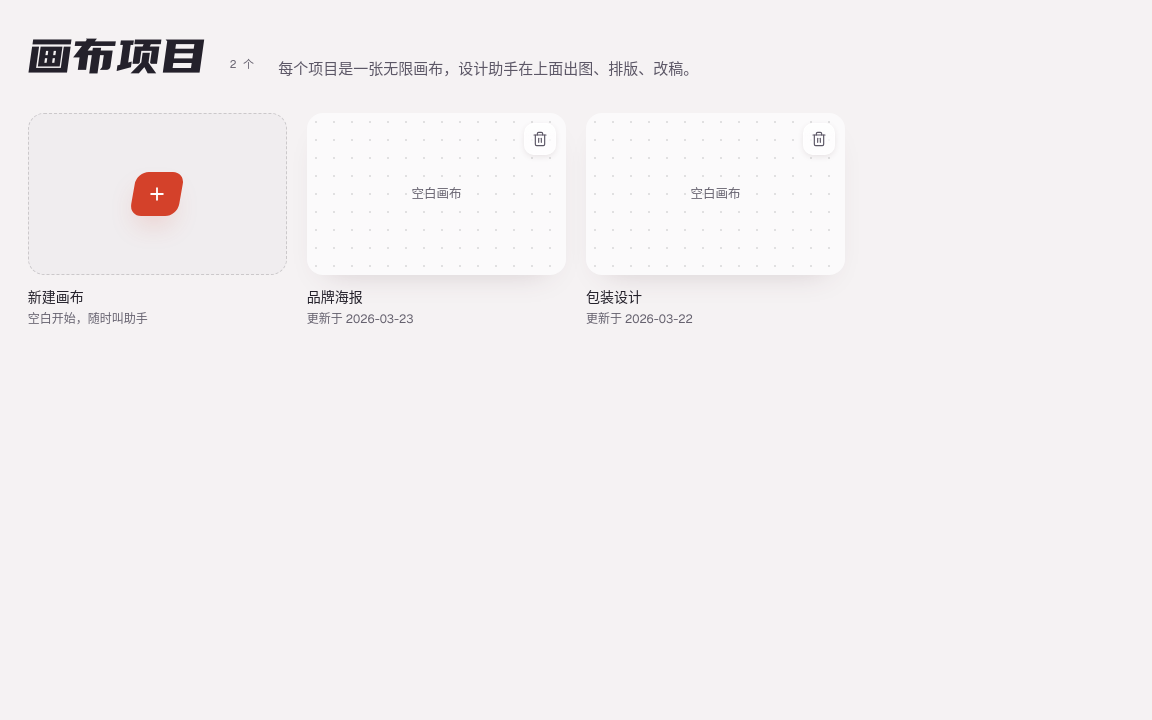
Scenario: Projects page › deletes a project after confirmation
Step 1. Click the button named "删除项目 品牌海报" → {"x": 540, "y": 139}, box [524,123,556,155]
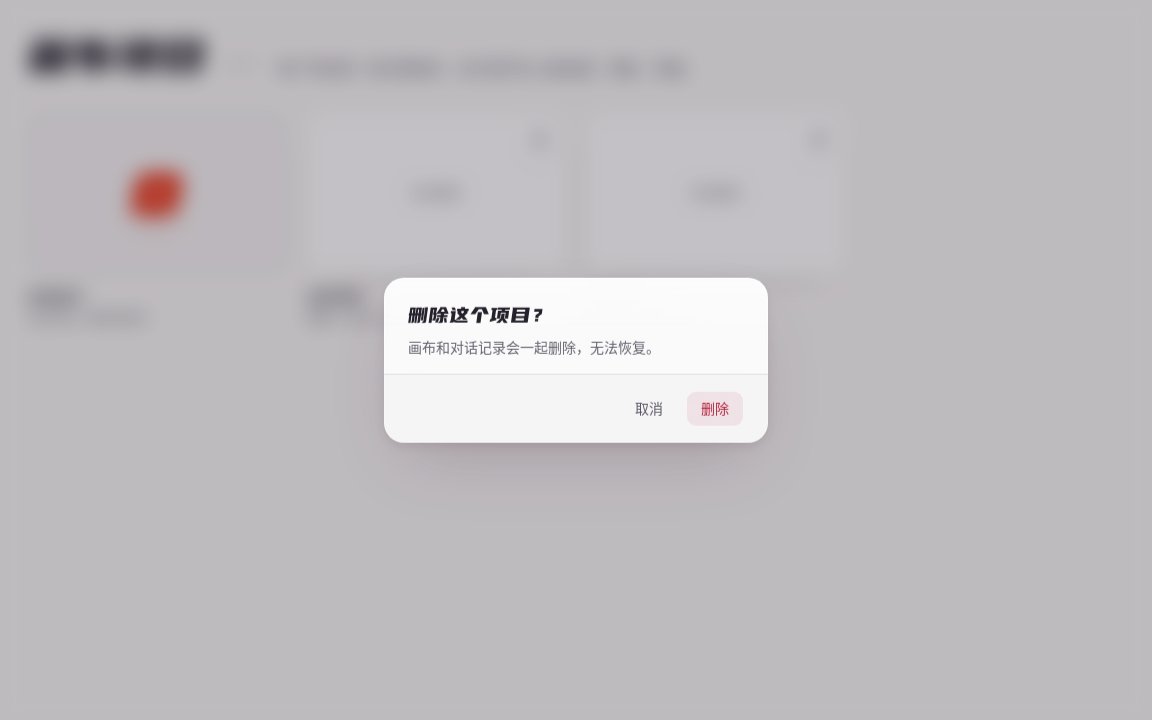
Step 2. Click the button "删除" → {"x": 715, "y": 408}, box [686,390,744,426]
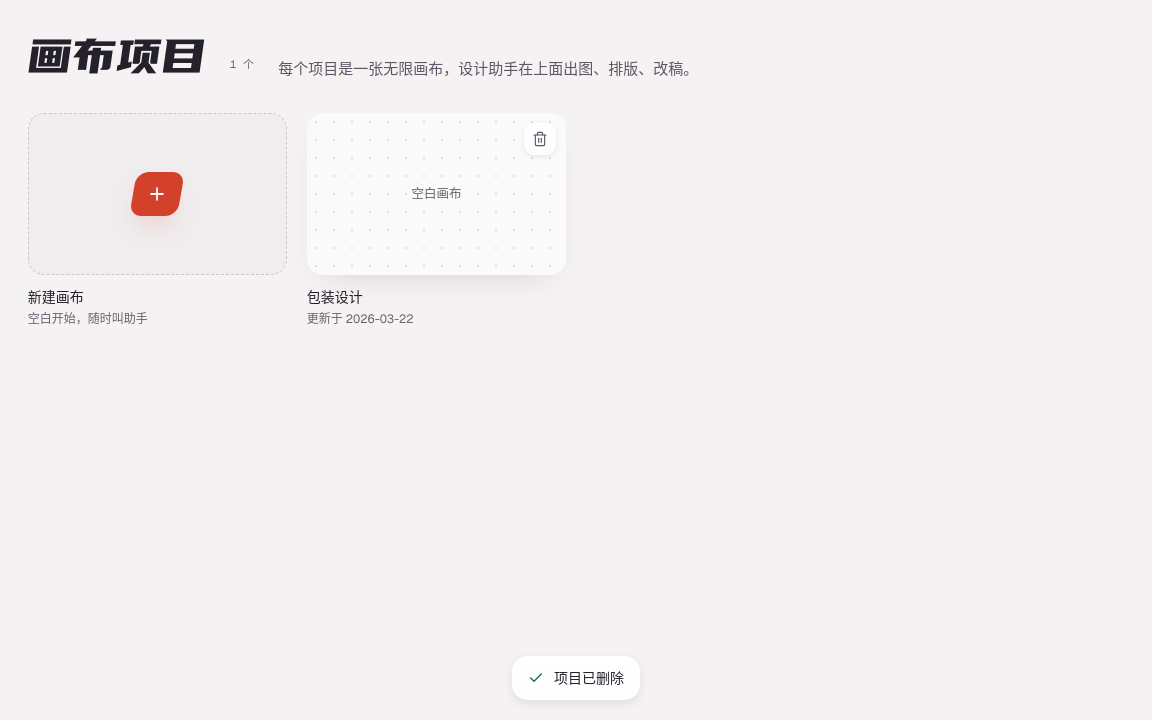
Expected: the link "品牌海报" is gone
